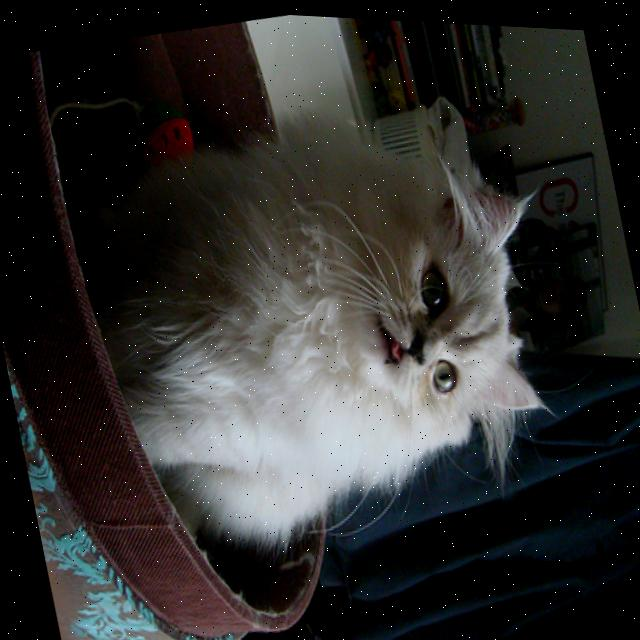Persian: (58, 60, 593, 580)
